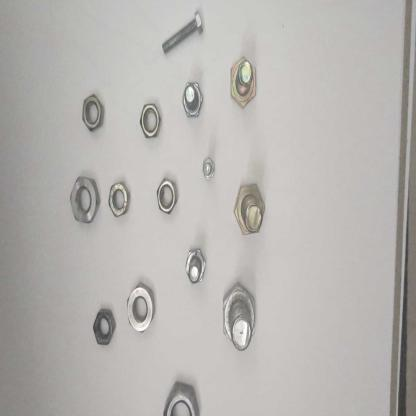Bolts: (218, 280, 262, 360), (232, 174, 272, 249), (156, 7, 212, 58), (225, 48, 259, 118), (178, 72, 207, 127), (183, 243, 211, 292), (198, 152, 221, 181)
NUTS: (124, 277, 160, 345), (159, 371, 202, 416), (68, 173, 102, 227), (134, 96, 168, 146), (90, 300, 119, 352), (106, 177, 134, 223), (152, 170, 180, 216), (81, 91, 108, 138)
